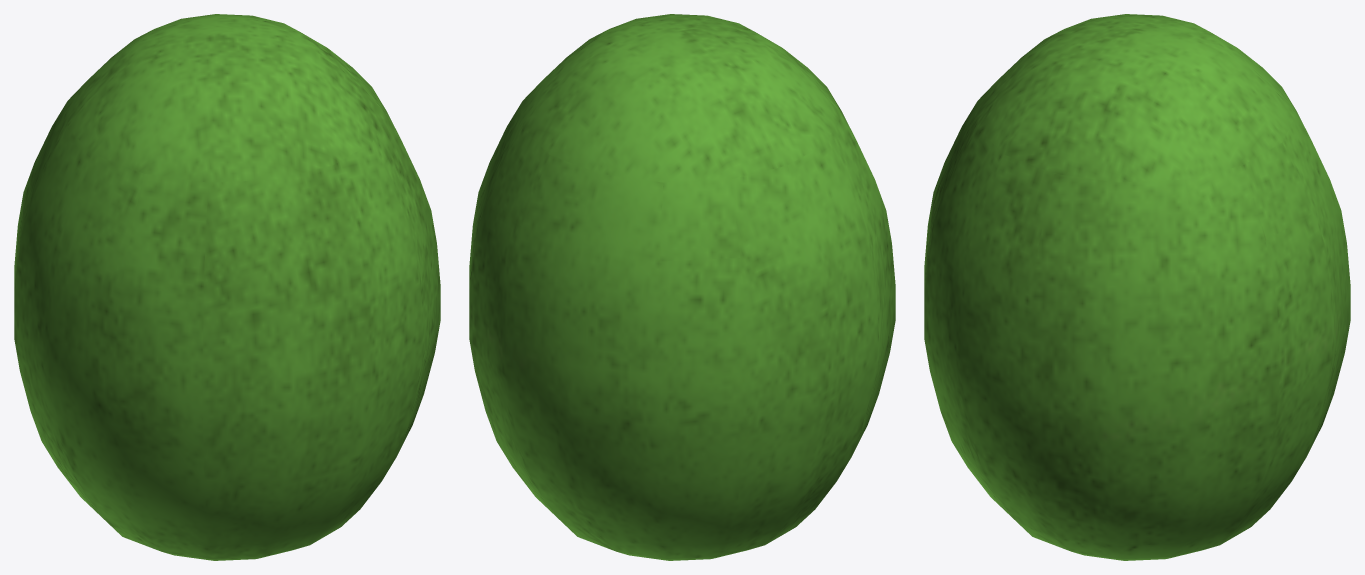
Rendered from Jajo.fbx.
The picture shows the model from 3 angles, left to right: view 1: azimuth 30°, elevation 25°; view 2: azimuth 150°, elevation 25°; view 3: azimuth 270°, elevation 25°; orthographic projection.
Visible parts, largest first — view 1: Sphere011; view 2: Sphere011; view 3: Sphere011.
Boxes of the visible parts, <box> form: Sphere011: <box>14,14,440,560</box>; Sphere011: <box>469,14,895,560</box>; Sphere011: <box>924,14,1350,560</box>.
Bounding box in the file's own units: 0.1859 × 0.247 × 0.1849.
